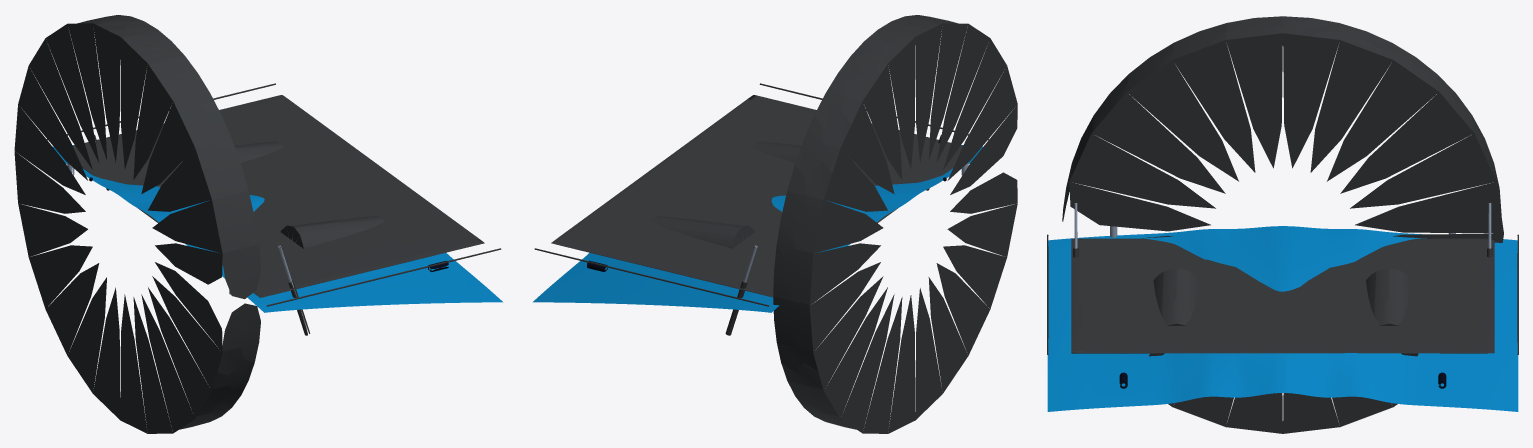
File: hood_panel.glb
3 renders of one model, left to right at view 1: azimuth 30°, elevation 25°; view 2: azimuth 150°, elevation 25°; view 3: azimuth 270°, elevation 25°, orthographic. The views are drawn at different scales.
Visible parts, largest first — view 1: Block04_ProductionSculptedHood; view 2: Block04_ProductionSculptedHood; view 3: Block04_ProductionSculptedHood.
Part boxes in pixels (x1,y1,x2,y2): Block04_ProductionSculptedHood: (14,15,502,433); Block04_ProductionSculptedHood: (533,15,1017,433); Block04_ProductionSculptedHood: (1047,16,1518,433).
Size of the model in its own units: 0.86 by 1.17 by 1.24.
